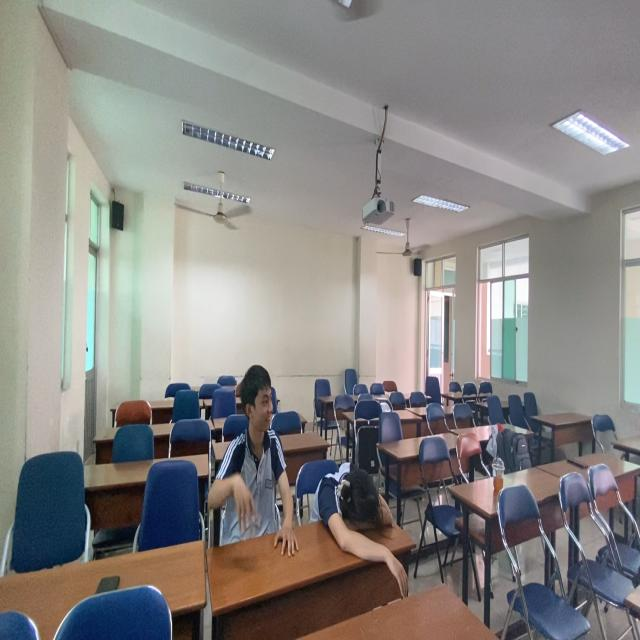sleep: (310, 454, 406, 587)
